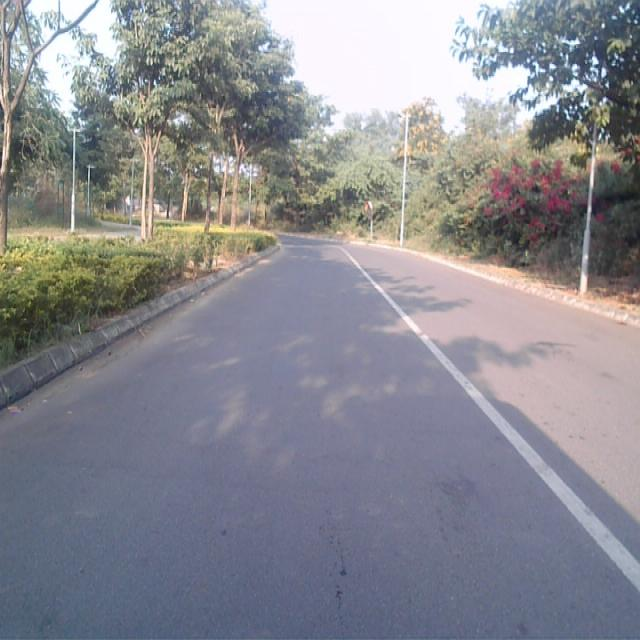lane: (0, 246, 640, 640)
